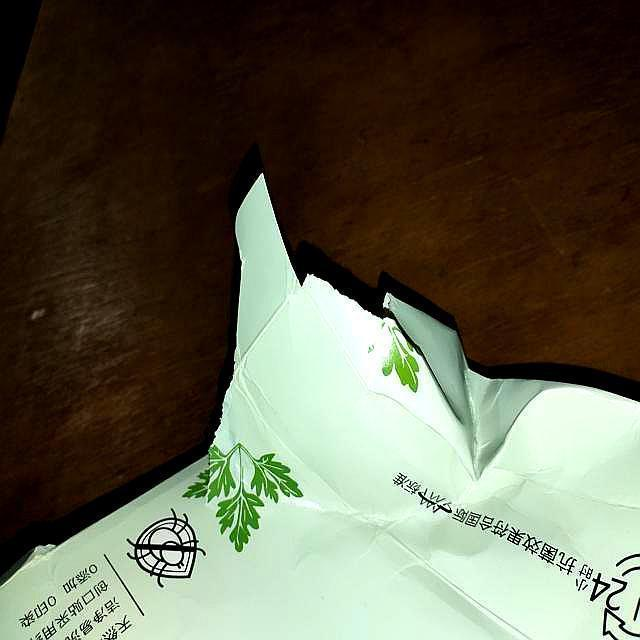Biodegradable: (1, 241, 640, 640)
